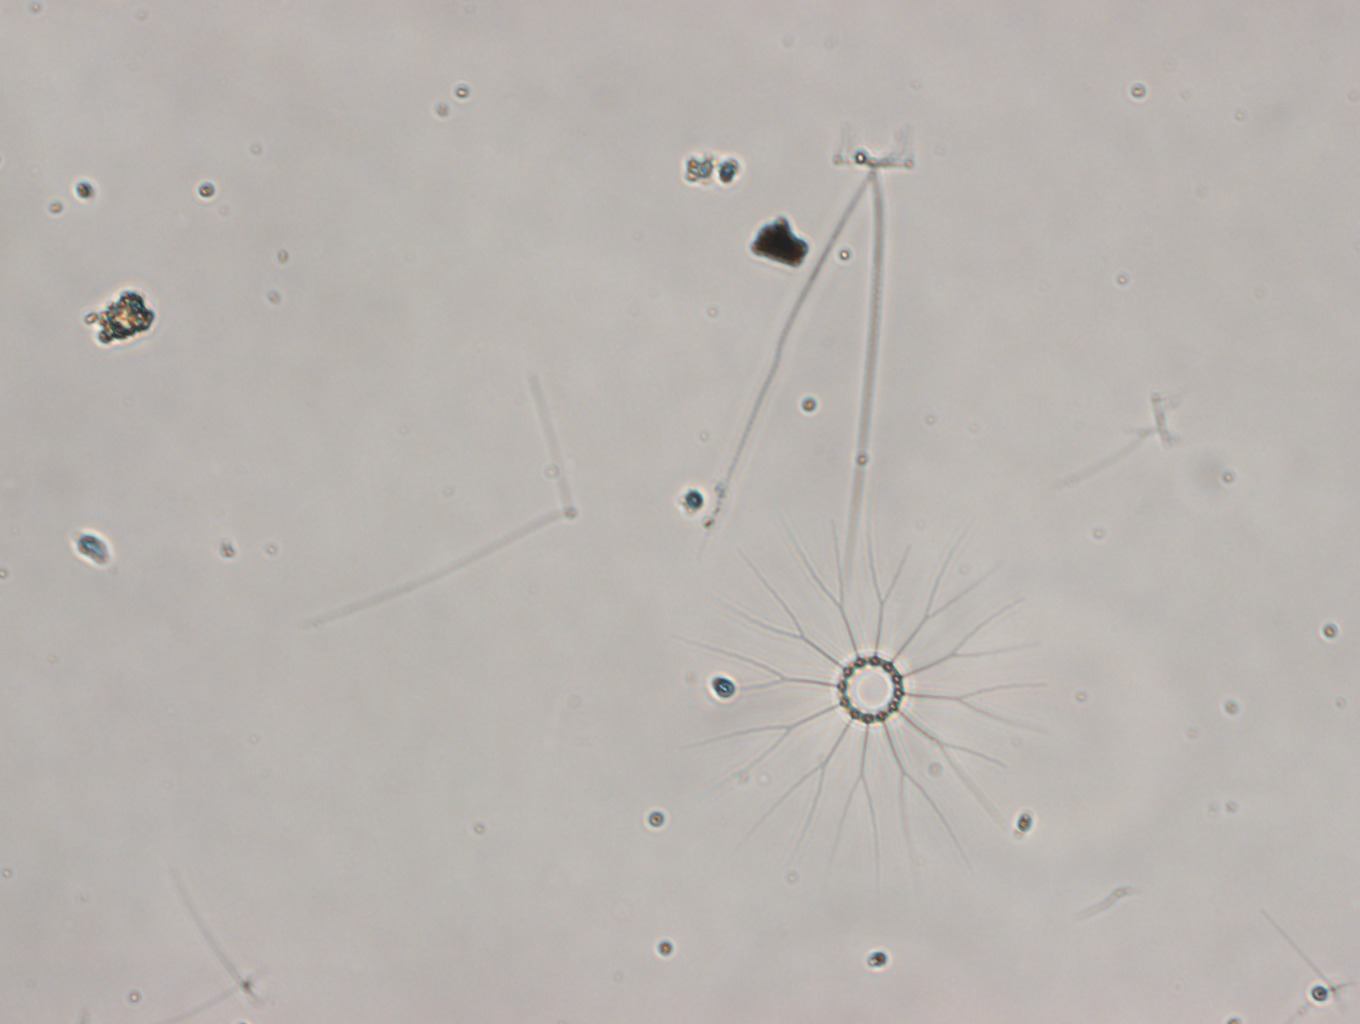bacteriastrum: (672, 509, 1053, 890)
chaetoceros: (693, 117, 913, 599)
